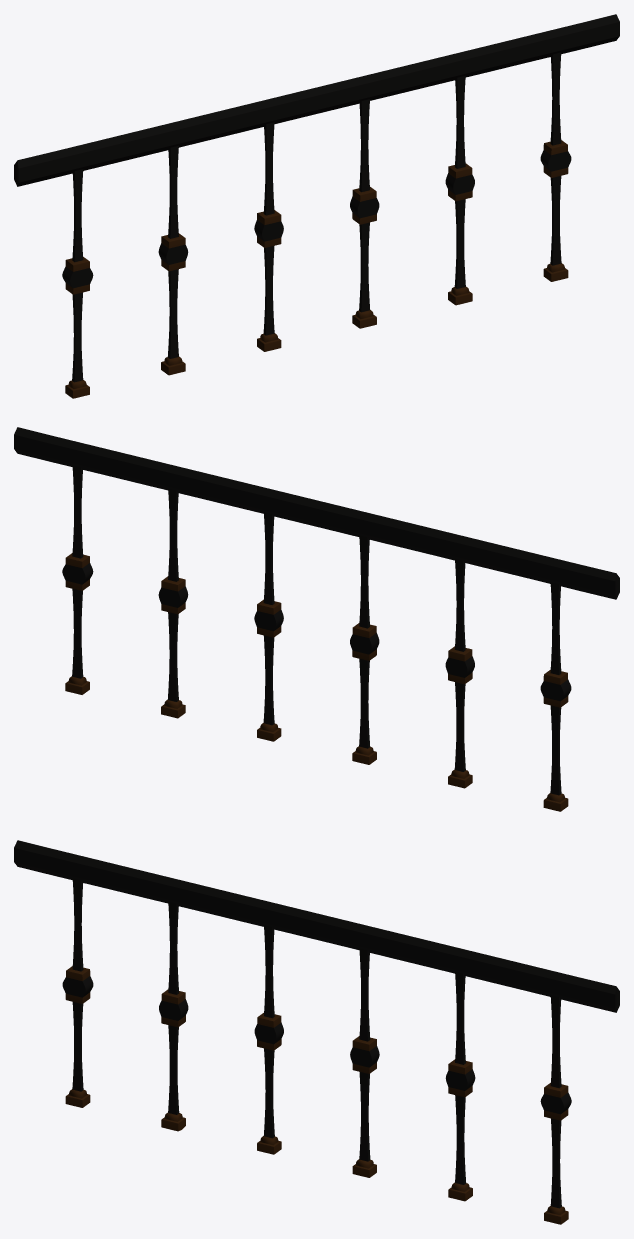
The model's file is Bannister_Middle.FBX.
3 views of the same model, one above another, from view 1: azimuth 30°, elevation 25°; view 2: azimuth 150°, elevation 25°; view 3: azimuth 330°, elevation 25° (orthographic).
Parts seen in each view (by area): view 1: Banniste_M; view 2: Banniste_M; view 3: Banniste_M.
Boxes of the visible parts, left/top/right/bottom form: Banniste_M: left=14, top=14, right=619, bottom=398; Banniste_M: left=14, top=427, right=619, bottom=811; Banniste_M: left=14, top=840, right=619, bottom=1224.
Bounding box in the file's own units: 4.62 × 1.83 × 0.103.
